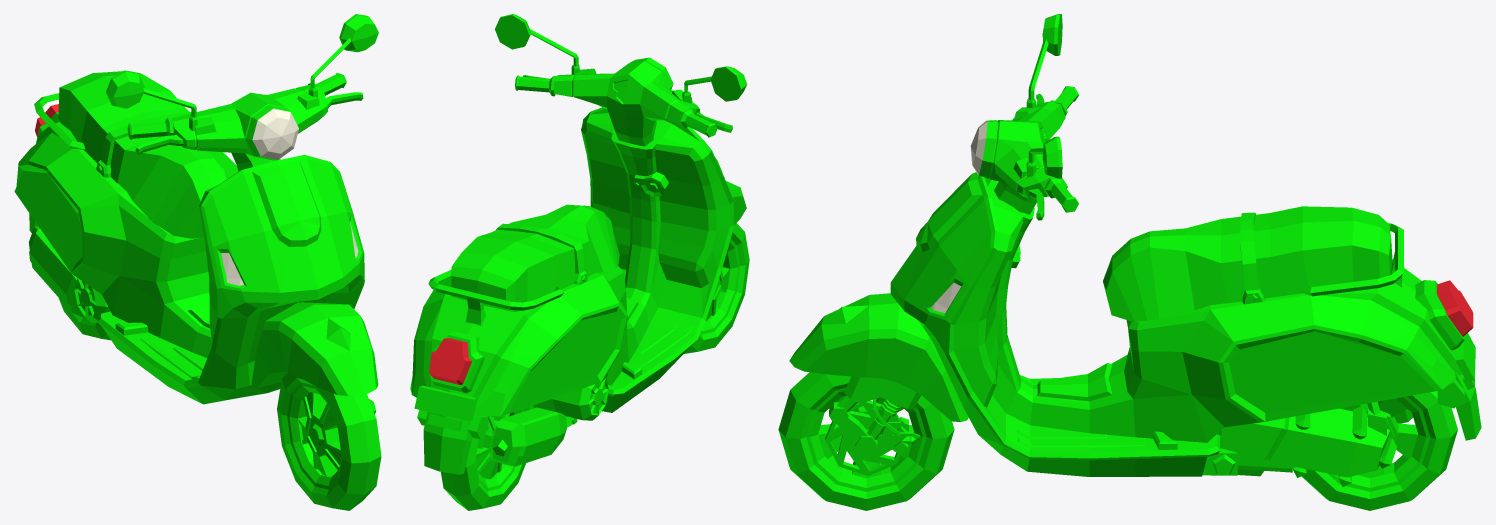
The model's file is SM_Motorcycle_Scooter_Modern.fbx.
3 views of the same model, side by side, from view 1: azimuth 30°, elevation 25°; view 2: azimuth 150°, elevation 25°; view 3: azimuth 270°, elevation 25° (orthographic). The views are drawn at different scales.
Visible parts, largest first — view 1: SM_Motorcycle_Scooter_Modern_Base, SM_Motorcycle_Scooter_Modern_Handlebars, SM_Motorcycle_Scooter_Modern_Wheel_F, SM_Motorcycle_Scooter_Modern_Wheel_B; view 2: SM_Motorcycle_Scooter_Modern_Base, SM_Motorcycle_Scooter_Modern_Handlebars, SM_Motorcycle_Scooter_Modern_Wheel_B, SM_Motorcycle_Scooter_Modern_Wheel_F; view 3: SM_Motorcycle_Scooter_Modern_Base, SM_Motorcycle_Scooter_Modern_Handlebars, SM_Motorcycle_Scooter_Modern_Wheel_F, SM_Motorcycle_Scooter_Modern_Wheel_B.
Part boxes in pixels (x1,y1,x2,y2): SM_Motorcycle_Scooter_Modern_Base: [14, 71, 364, 404]; SM_Motorcycle_Scooter_Modern_Handlebars: [106, 14, 378, 413]; SM_Motorcycle_Scooter_Modern_Wheel_F: [277, 372, 381, 510]; SM_Motorcycle_Scooter_Modern_Wheel_B: [59, 298, 110, 340]; SM_Motorcycle_Scooter_Modern_Base: [410, 107, 734, 474]; SM_Motorcycle_Scooter_Modern_Handlebars: [495, 14, 747, 224]; SM_Motorcycle_Scooter_Modern_Wheel_B: [441, 405, 533, 510]; SM_Motorcycle_Scooter_Modern_Wheel_F: [684, 223, 749, 353]; SM_Motorcycle_Scooter_Modern_Base: [890, 172, 1481, 486]; SM_Motorcycle_Scooter_Modern_Handlebars: [789, 14, 1078, 454]; SM_Motorcycle_Scooter_Modern_Wheel_F: [778, 372, 954, 510]; SM_Motorcycle_Scooter_Modern_Wheel_B: [1301, 391, 1457, 510].
Size of the model in its own units: 0.8994 by 1.28 by 1.89.
